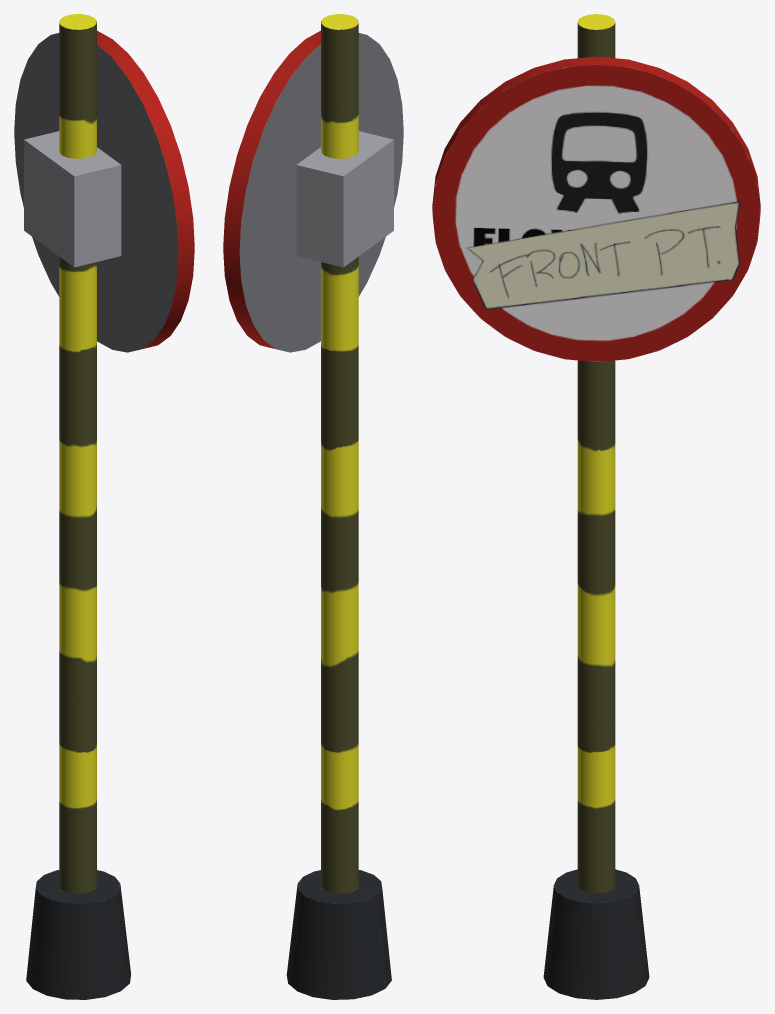
File: FRONTts.fbx
3 renders of one model, left to right at view 1: azimuth 30°, elevation 25°; view 2: azimuth 150°, elevation 25°; view 3: azimuth 270°, elevation 25°, orthographic.
Visible parts, largest first — view 1: mainpole.003, circlesign, signfastener; view 2: mainpole.003, circlesign, signfastener; view 3: circlesign, mainpole.003.
Part boxes in pixels (x1,y1,x2,y2): mainpole.003: (26,14,130,999); circlesign: (14,30,194,352); signfastener: (24,131,121,267); mainpole.003: (286,14,391,999); circlesign: (223,30,403,352); signfastener: (296,131,393,267); circlesign: (432,56,760,361); mainpole.003: (543,14,649,999).
Size of the model in its own units: 24.21 by 241 by 75.02.
